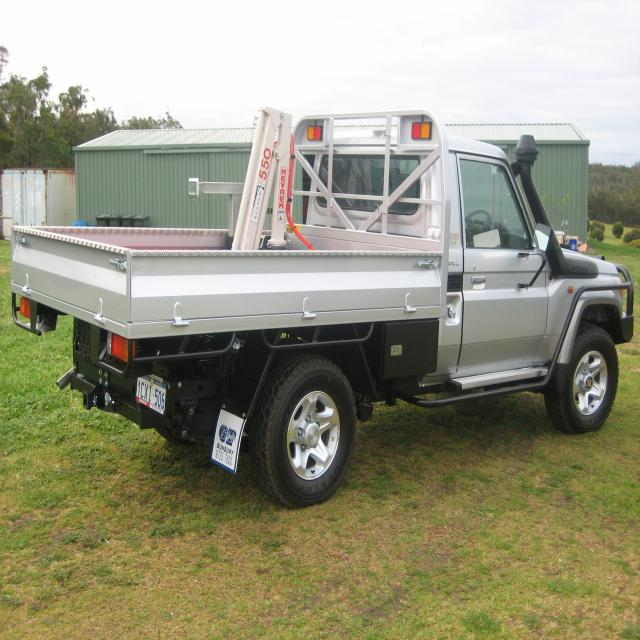light_vehicle: (7, 107, 640, 531)
